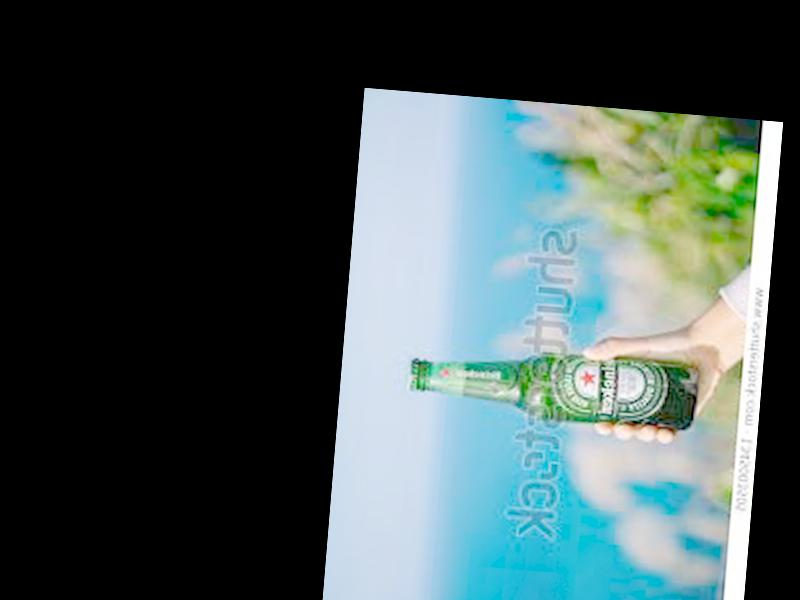Beer: (405, 337, 696, 431)
